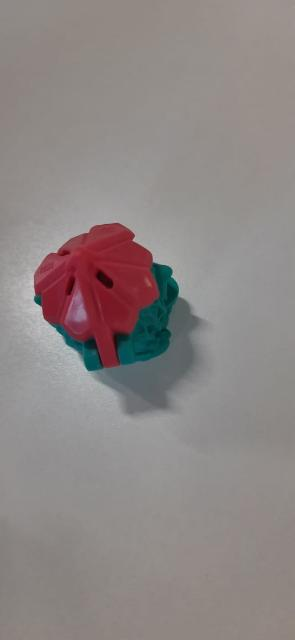House: (27, 223, 182, 375)
